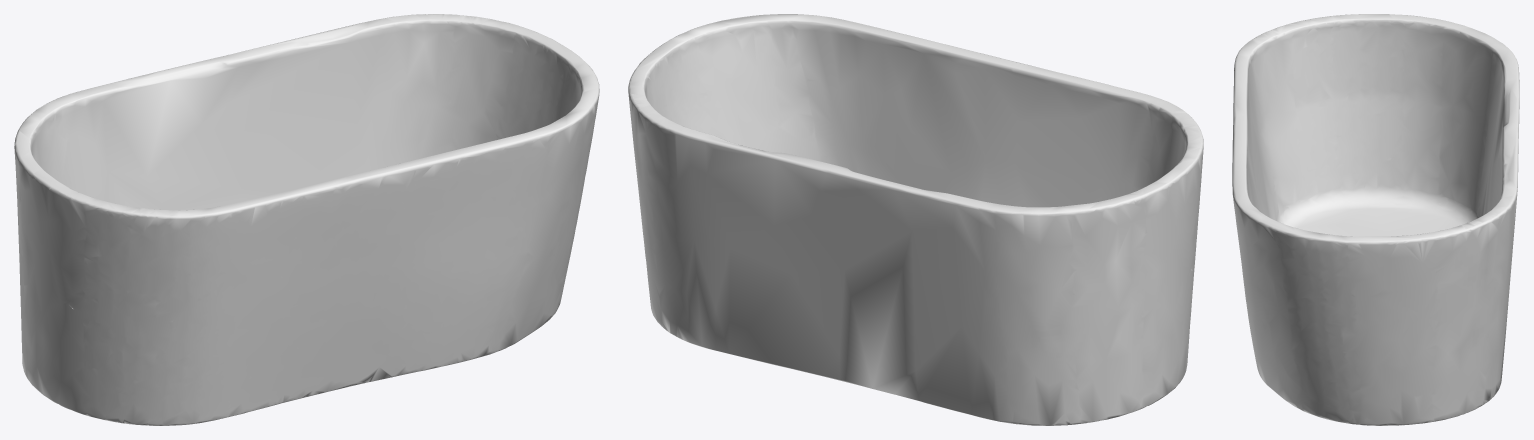
File: MJXi5C1akYA-CAiV-J1Lh.glb
3 views of the same model, side by side, from view 1: azimuth 30°, elevation 25°; view 2: azimuth 150°, elevation 25°; view 3: azimuth 270°, elevation 25° (orthographic). The views are drawn at different scales.
Visible parts, largest first — view 1: geometry_0; view 2: geometry_0; view 3: geometry_0.
Boxes of the visible parts, x1,y1,x2,y2 form: geometry_0: [14, 14, 599, 425]; geometry_0: [628, 14, 1203, 425]; geometry_0: [1232, 14, 1519, 425].
Bounding box in the file's own units: 1 × 0.3973 × 0.5323.
Materials: 1 (1 with a texture image).
